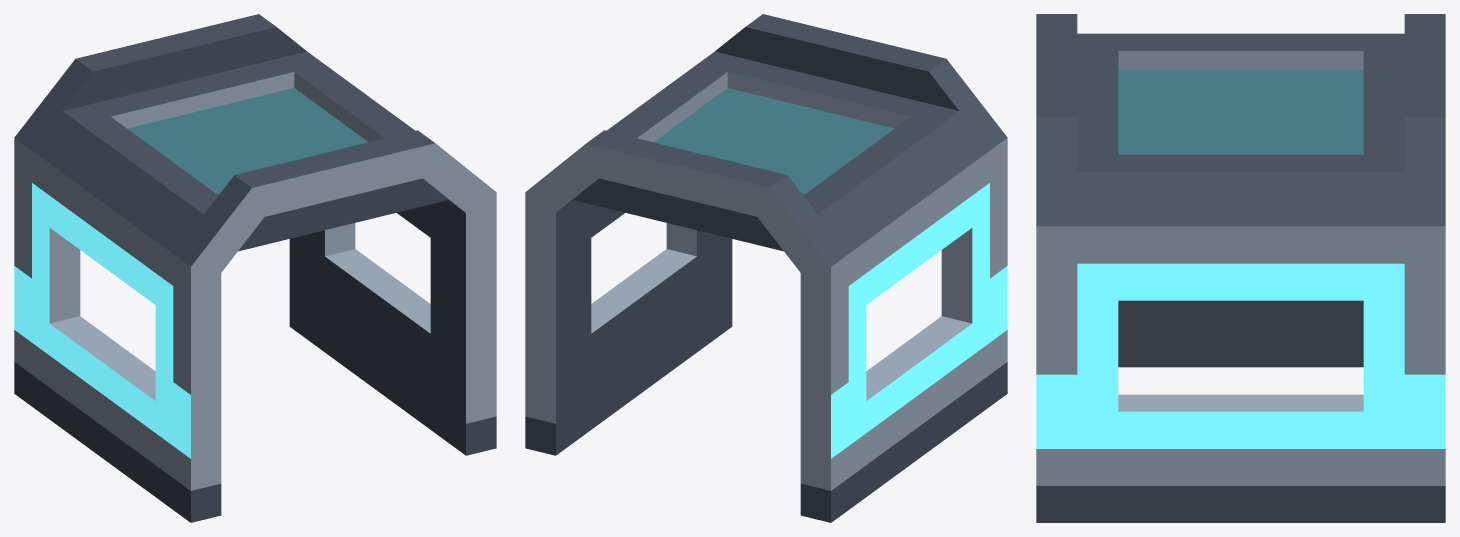
File: corridor_window.glb
3 renders of one model, left to right at view 1: azimuth 30°, elevation 25°; view 2: azimuth 150°, elevation 25°; view 3: azimuth 270°, elevation 25°, orthographic. The views are drawn at different scales.
Parts seen in each view (by area): view 1: corridor_window; view 2: corridor_window; view 3: corridor_window.
Boxes of the visible parts, left/top/right/bottom form: corridor_window: left=14, top=14, right=496, bottom=522; corridor_window: left=525, top=14, right=1007, bottom=522; corridor_window: left=1036, top=14, right=1445, bottom=522.
Bounding box in the file's own units: 1 × 1 × 1.
